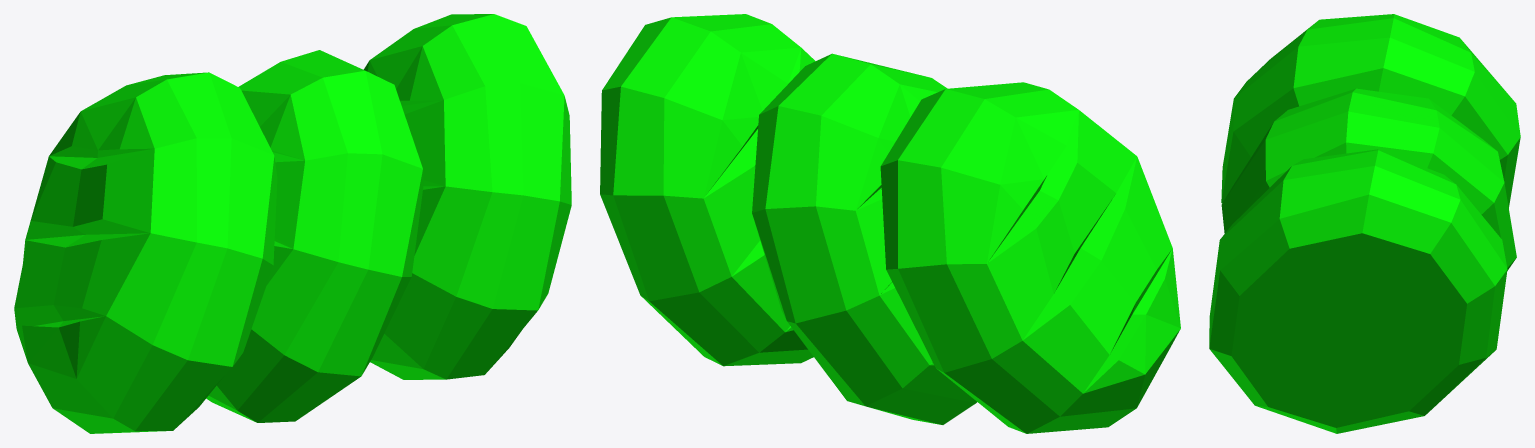
File: SM_Basket_Bread_Toasted_Fantasy.fbx
The picture shows the model from 3 angles, left to right: view 1: azimuth 30°, elevation 25°; view 2: azimuth 150°, elevation 25°; view 3: azimuth 270°, elevation 25°; orthographic projection. The views are drawn at different scales.
Parts seen in each view (by area): view 1: basket-bread-toasted-fantasy; view 2: basket-bread-toasted-fantasy; view 3: basket-bread-toasted-fantasy.
Boxes of the visible parts, bbox=[...] form: basket-bread-toasted-fantasy: bbox=[14, 14, 571, 433]; basket-bread-toasted-fantasy: bbox=[600, 14, 1180, 433]; basket-bread-toasted-fantasy: bbox=[1209, 14, 1520, 433].
Size of the model in its own units: 0.4779 by 0.3019 by 0.2738.
